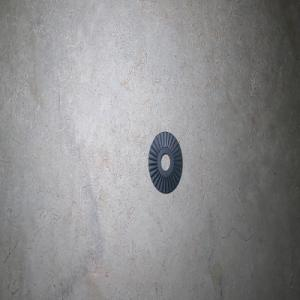Washer: (148, 131, 182, 193)
